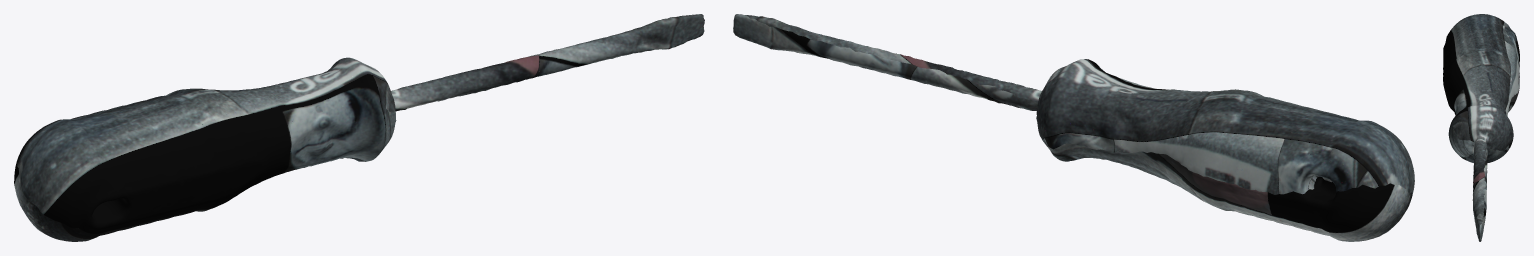
3 renders of one model, left to right at view 1: azimuth 30°, elevation 25°; view 2: azimuth 150°, elevation 25°; view 3: azimuth 270°, elevation 25°, orthographic. The views are drawn at different scales.
Bounding box in the file's own units: 0.2161 × 0.0345 × 0.0346.
